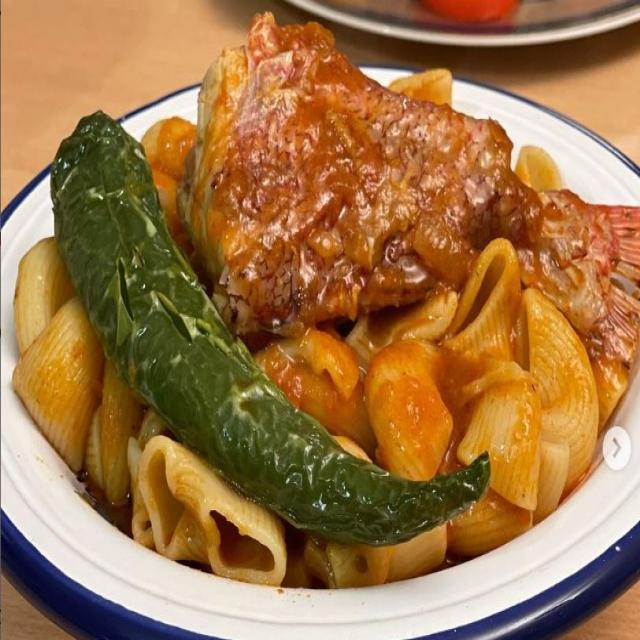Pasta: (22, 45, 640, 576)
